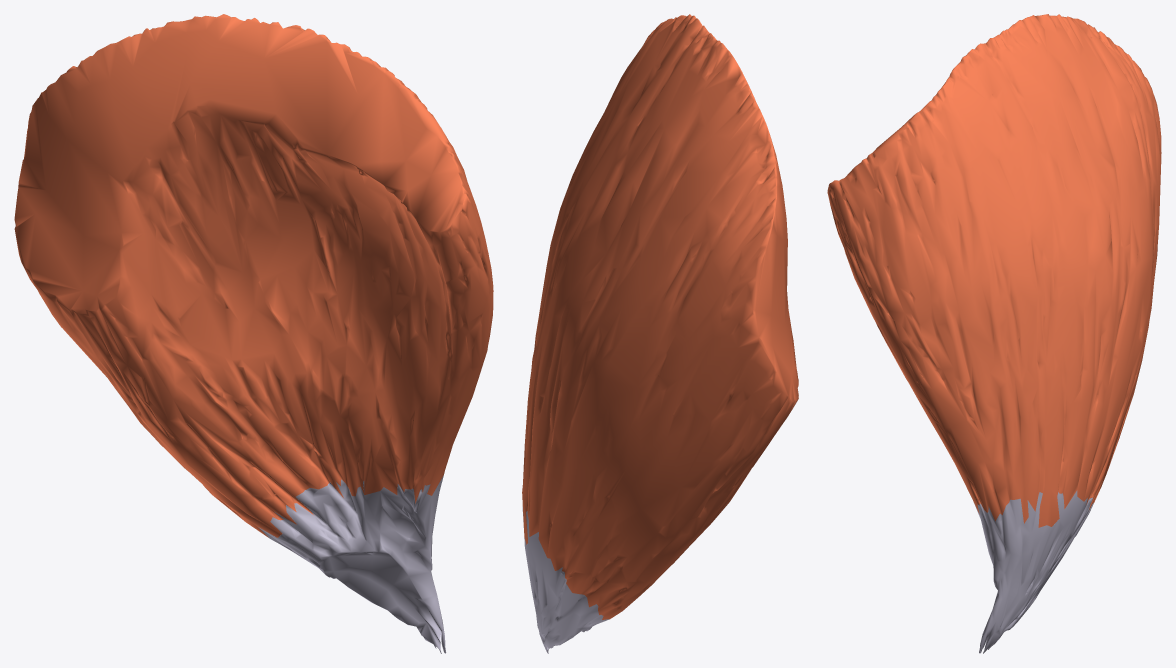
File: Gluteus_medius_left.glb
3 renders of one model, left to right at view 1: azimuth 30°, elevation 25°; view 2: azimuth 150°, elevation 25°; view 3: azimuth 270°, elevation 25°, orthographic. The views are drawn at different scales.
Visible parts, largest first — view 1: Gluteus_medius_muscle.l_Generated_Mesh_From_X3D.486; view 2: Gluteus_medius_muscle.l_Generated_Mesh_From_X3D.486; view 3: Gluteus_medius_muscle.l_Generated_Mesh_From_X3D.486.
Part boxes in pixels (x1=…): Gluteus_medius_muscle.l_Generated_Mesh_From_X3D.486: x1=14, y1=14, x2=493, y2=653; Gluteus_medius_muscle.l_Generated_Mesh_From_X3D.486: x1=522, y1=14, x2=798, y2=653; Gluteus_medius_muscle.l_Generated_Mesh_From_X3D.486: x1=827, y1=14, x2=1161, y2=653.
Bounding box in the file's own units: 0.0892 × 0.1681 × 0.0917.
